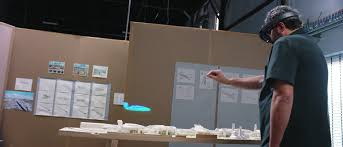hololens: (255, 11, 304, 47)
